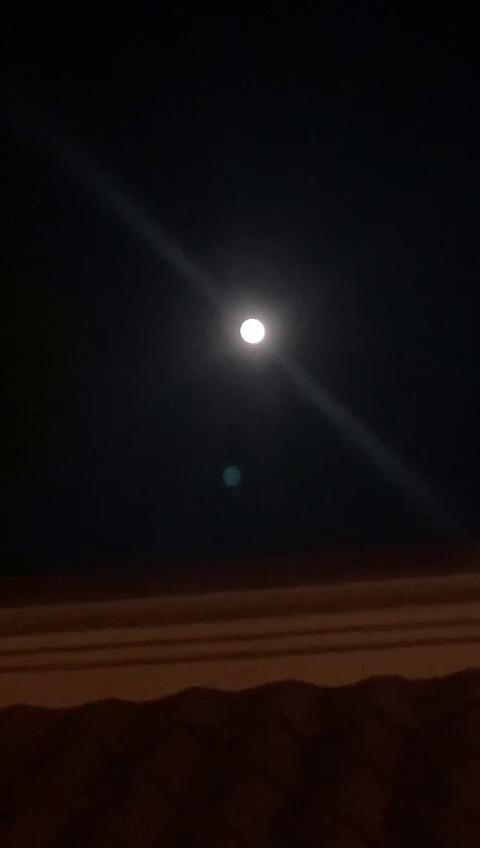moon: (243, 318, 274, 349)
